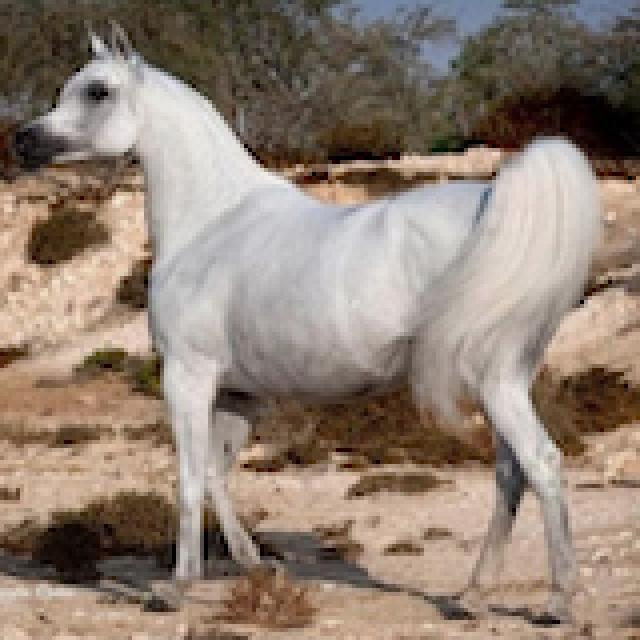Horse: (4, 16, 612, 624)
